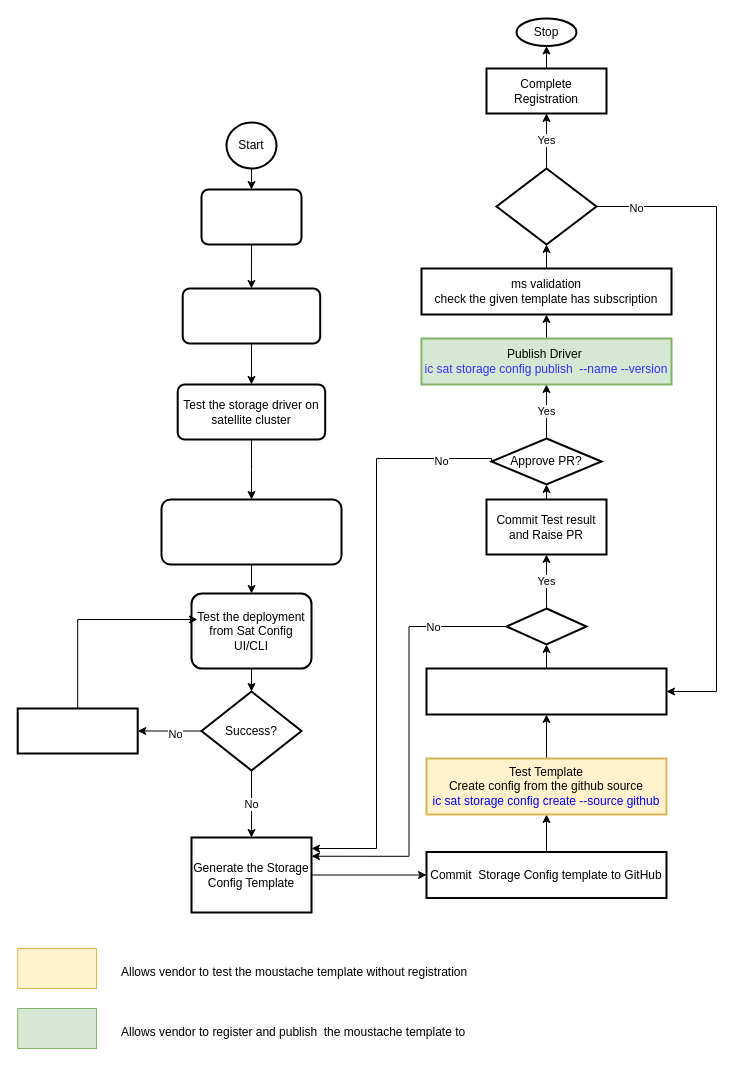
Image size: 743x1066. Some labels were removed from this diagram. The shapes that lost their labels are listed below. From the top down, each one's box as (x1, y1, x2, y2) in pixels, then its label:
(200, 188, 302, 245): Vendor login into IBM cloud
(495, 167, 597, 245): Validation success?
(181, 287, 321, 344): create satellite location and cluster
(160, 498, 342, 565): create deployment config(deployment.yaml)
(505, 607, 587, 645): Success
(425, 667, 667, 715): Subscribe the config version to satellite cluster
(16, 707, 138, 754): Fix deployment
